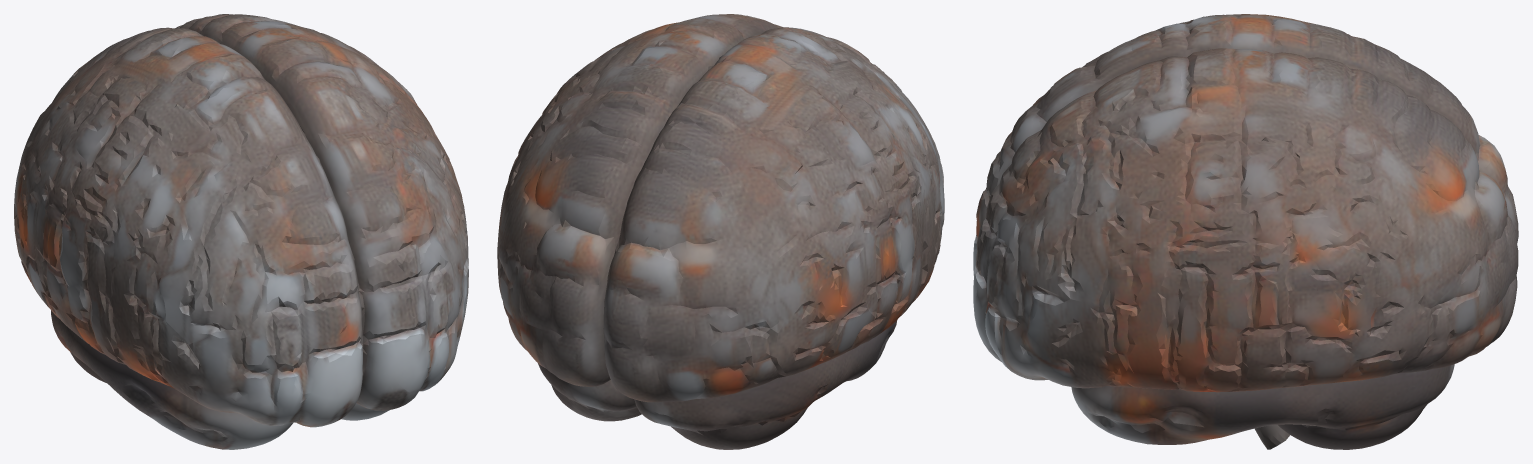
Rendered from brain.glb.
3 renders of one model, left to right at view 1: azimuth 30°, elevation 25°; view 2: azimuth 150°, elevation 25°; view 3: azimuth 270°, elevation 25°, orthographic. The views are drawn at different scales.
Visible parts, largest first — view 1: model; view 2: model; view 3: model.
Part boxes in pixels (box(x1,y1,x2,y2)): model: box(14, 14, 468, 449); model: box(497, 14, 944, 449); model: box(973, 14, 1518, 449).
Size of the model in its own units: 1.53 by 1.57 by 1.9.
Materials: 1 (1 with a texture image).
